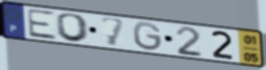2: (175, 25, 204, 58), (210, 31, 234, 62)
7: (100, 16, 127, 49)
E: (25, 8, 59, 41)
G: (131, 21, 164, 53)
O: (55, 12, 91, 44)
